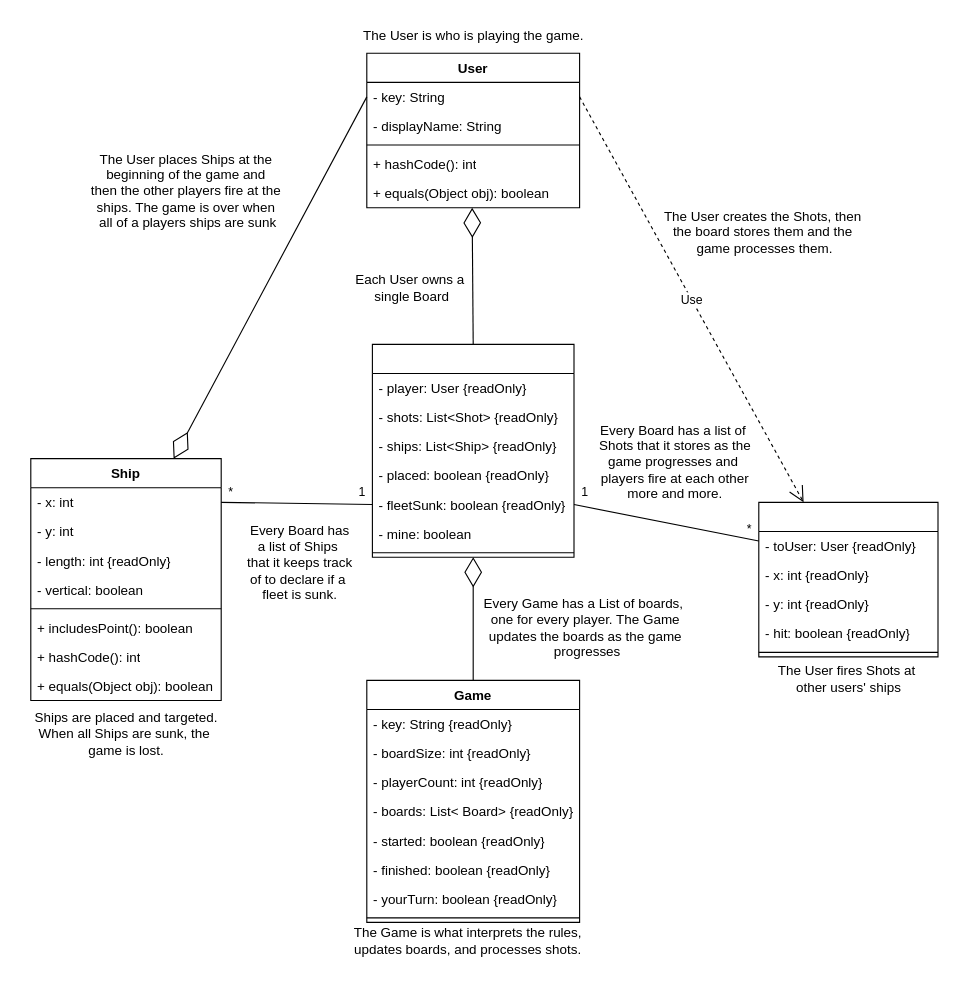
This 958x982 diagram has some shape labels left out. Here are the shapes that lost their labels. From the top down, the box of each, then its label:
(371, 343, 574, 557): Board
(758, 501, 938, 657): Shot
